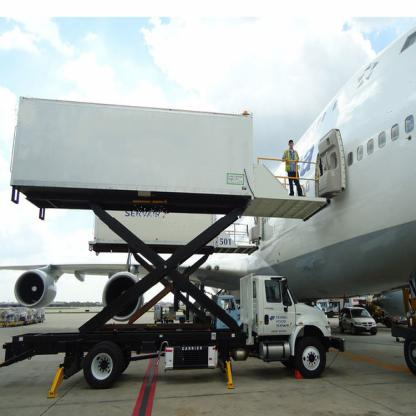Catering truck: (10, 73, 366, 398)
